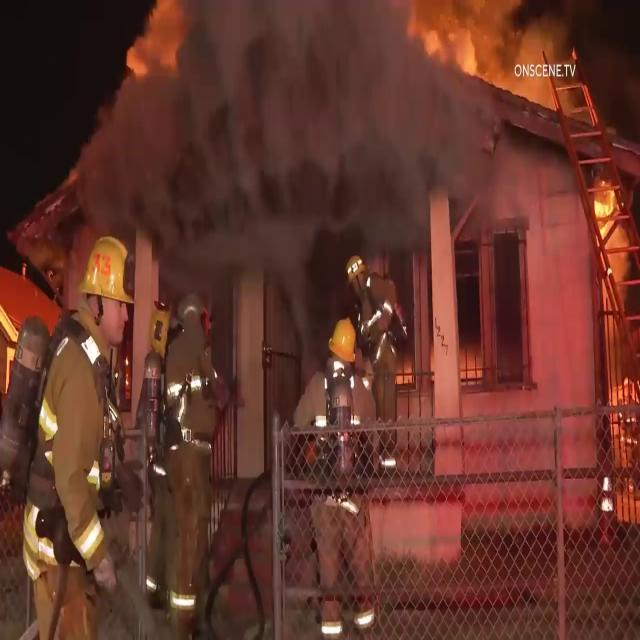Smoke: (81, 7, 476, 226)
